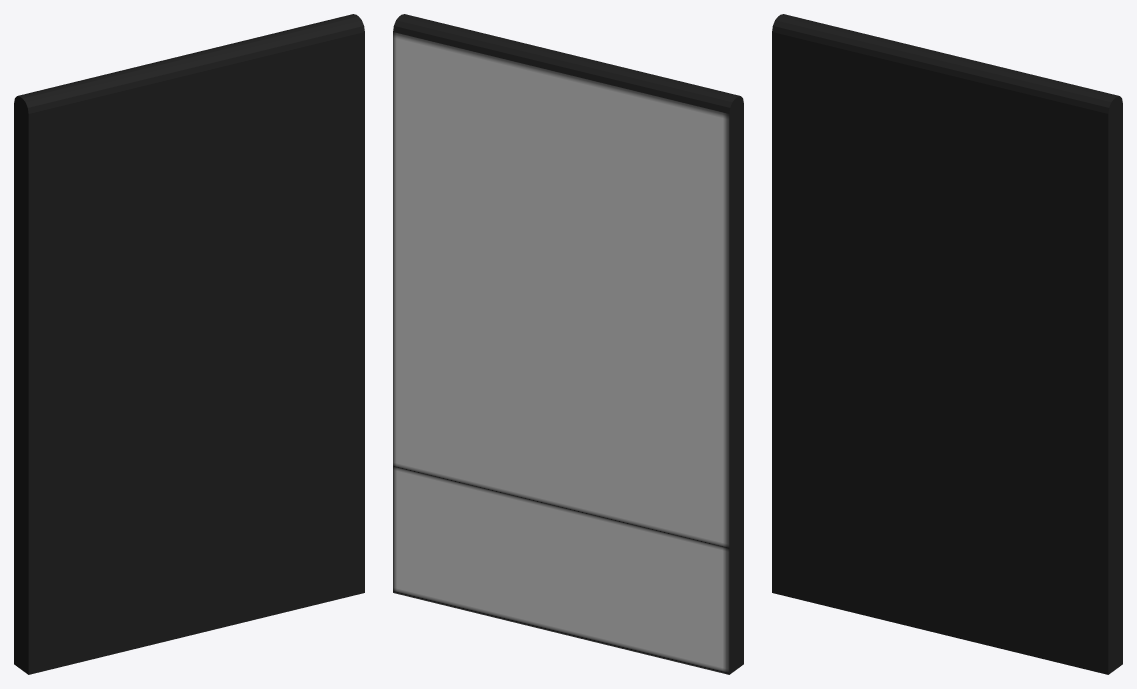
The model's file is Property.fbx.
3 views of the same model, side by side, from view 1: azimuth 30°, elevation 25°; view 2: azimuth 150°, elevation 25°; view 3: azimuth 330°, elevation 25° (orthographic).
Parts seen in each view (by area): view 1: Property.001; view 2: Property.001; view 3: Property.001.
Part boxes in pixels (box(x1,y1,x2,y2)): Property.001: box(14, 14, 364, 674); Property.001: box(393, 14, 743, 674); Property.001: box(772, 14, 1122, 674).
Bounding box in the file's own units: 16 × 26 × 1.2.
